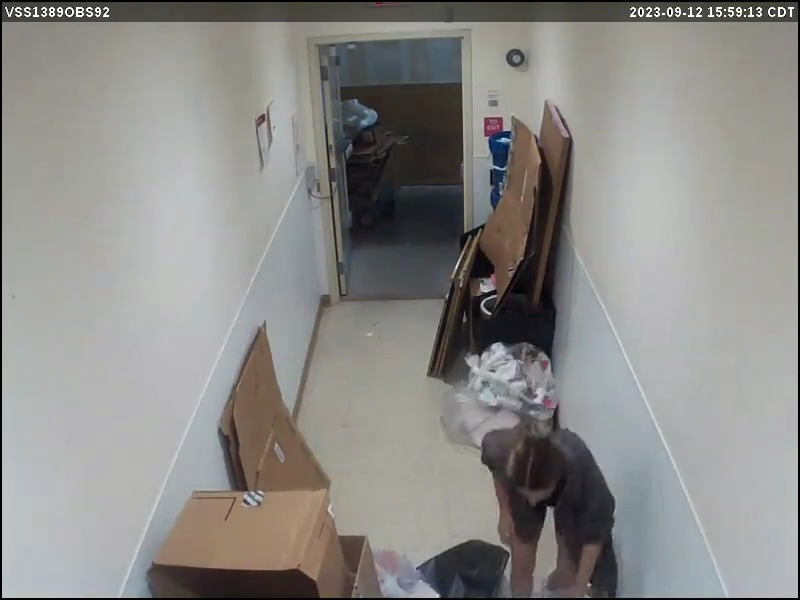No-gloves: (497, 509, 528, 546)
